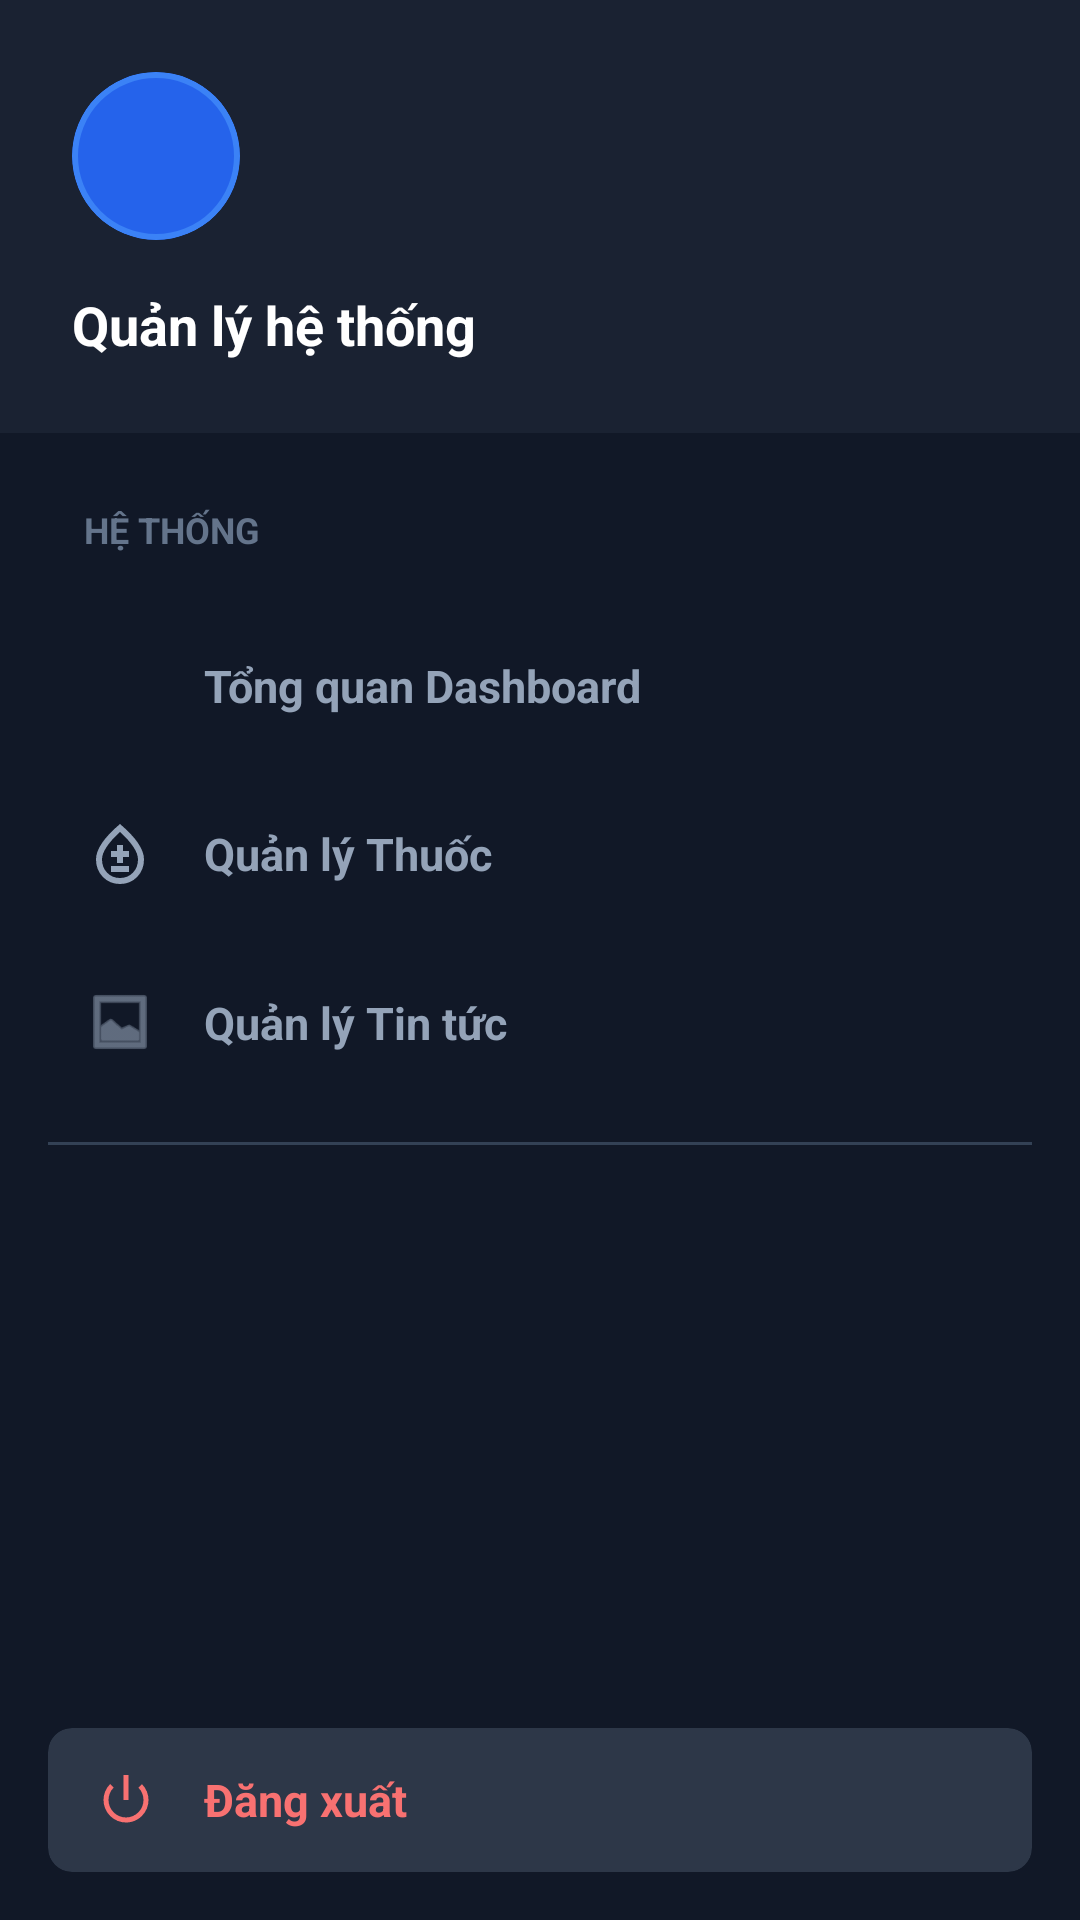

Named icons in this screenshot (1080 x 1920) and their centers, (x,y):
gallery: (120,1022)
lock power off: (126,1799)
manage medicine: (120,854)
